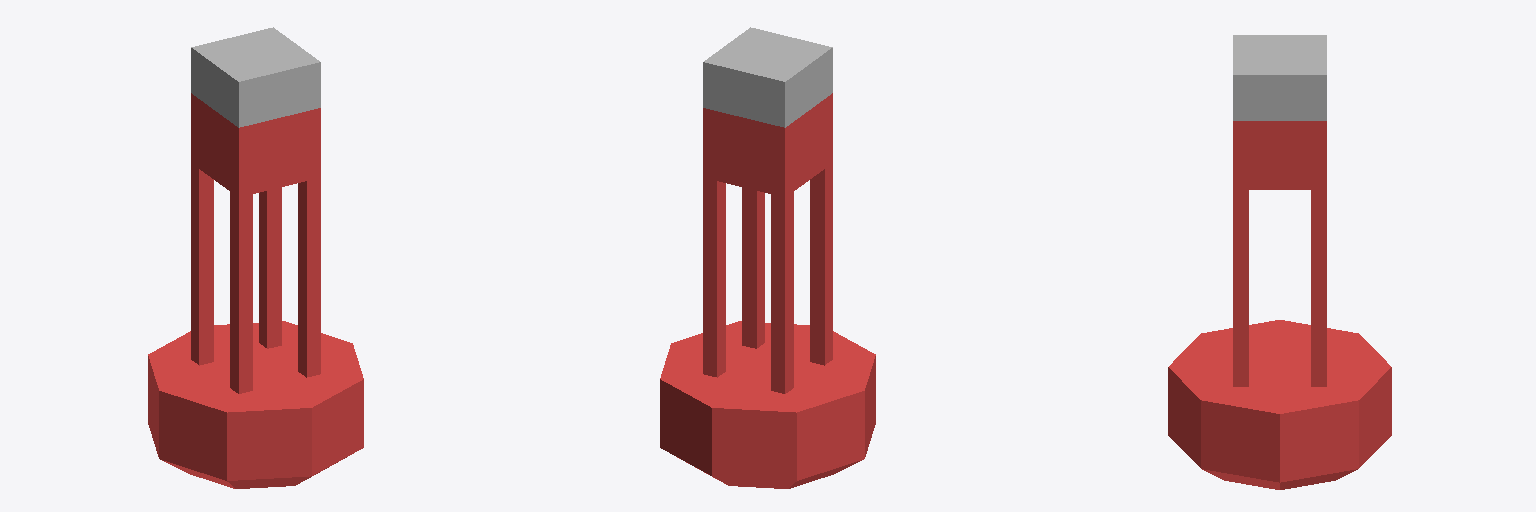
Rendered from watercraftPack_027.obj.
3 renders of one model, left to right at view 1: azimuth 30°, elevation 25°; view 2: azimuth 150°, elevation 25°; view 3: azimuth 270°, elevation 25°, orthographic.
Visible parts, largest first — view 1: Mesh1 Group1 Model; view 2: Mesh1 Group1 Model; view 3: Mesh1 Group1 Model.
Part boxes in pixels (x1,y1,x2,y2): Mesh1 Group1 Model: (148,27,363,488); Mesh1 Group1 Model: (660,27,875,488); Mesh1 Group1 Model: (1168,35,1391,489).
Bounding box in the file's own units: 0.9282 × 1.84 × 0.9282.